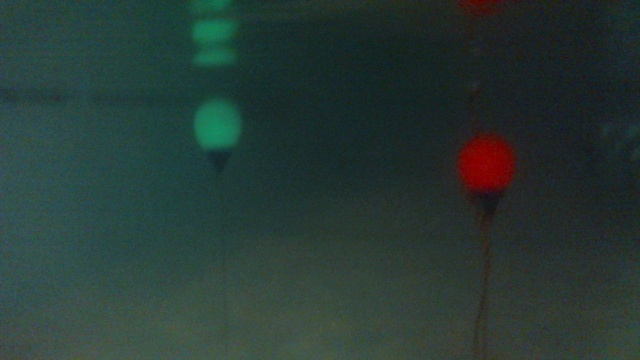buoy_green: (190, 93, 248, 173)
buoy_red: (454, 133, 515, 211)
